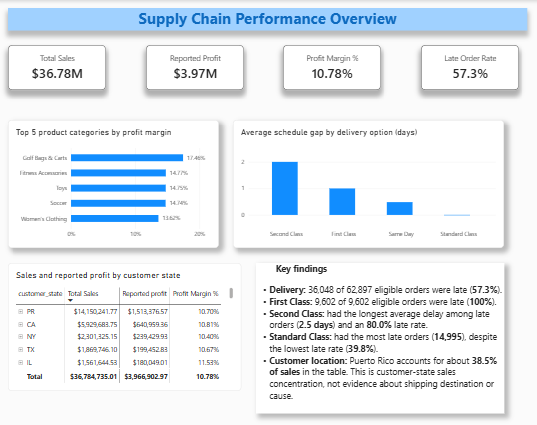

This screenshot's page, from the dashboard's own definition file:
{"tool":"powerbi","page":{"name":"Performance Overview","canvas":[1920,1080],"ordinal":0},"visuals":[{"type":"cardVisual","fields":{"Data":["_All Measures.Total Sales"]},"box":[16,96,208,96],"z":0},{"type":"cardVisual","title":"Dataset-Reported Profit","fields":{"Data":["_All Measures.Total net profit"]},"box":[309.3,96,208,96],"z":1000},{"type":"cardVisual","fields":{"Data":["_All Measures.Profit Margin %"]},"box":[602.7,96,208,96],"z":2000},{"type":"clusteredBarChart","title":"Top 5 product categories by profit margin","fields":{"Category":["supply_chain_db dim_products.category_name"],"Y":["_All Measures.Profit Margin %"]},"box":[16,256,448,272],"z":3000},{"type":"clusteredColumnChart","title":"Average schedule gap by delivery option (days)","fields":{"Category":["supply_chain_db fact_orders.shipping_mode"],"Y":["_All Measures.Average Schedule Gap (Days)"]},"box":[496,256,576,272],"z":4000},{"type":"pivotTable","title":"Sales and reported profit by customer state","fields":{"Rows":["supply_chain_db dim_customers.customer_state","supply_chain_db dim_customers.customer_city"],"Values":["_All Measures.Total Sales","_All Measures.Total net profit","_All Measures.Profit Margin %"]},"box":[16,560,496,272],"z":5000},{"type":"textbox","box":[16,16,1104,48],"z":5001},{"type":"cardVisual","fields":{"Data":["_All Measures.Late Order Rate"]},"box":[896,96,208,96],"z":5002},{"type":"textbox","box":[544,560,528,320],"z":5003}]}

Visuals, with their boxes on the page's 1920x1080 design canvas (x1, y1, x2, y2). These are canvas units, not pixel positions in the 537x425 screenshot, which may show the page scaled, cropped or inside an application window:
cardVisual - _All Measures.Total Sales: bbox=[16, 96, 224, 192]
"Dataset-Reported Profit" cardVisual: bbox=[309, 96, 517, 192]
cardVisual - _All Measures.Profit Margin %: bbox=[603, 96, 811, 192]
"Top 5 product categories by profit margin" clusteredBarChart: bbox=[16, 256, 464, 528]
"Average schedule gap by delivery option (days)" clusteredColumnChart: bbox=[496, 256, 1072, 528]
"Sales and reported profit by customer state" pivotTable: bbox=[16, 560, 512, 832]
textbox: bbox=[16, 16, 1120, 64]
cardVisual - _All Measures.Late Order Rate: bbox=[896, 96, 1104, 192]
textbox: bbox=[544, 560, 1072, 880]
